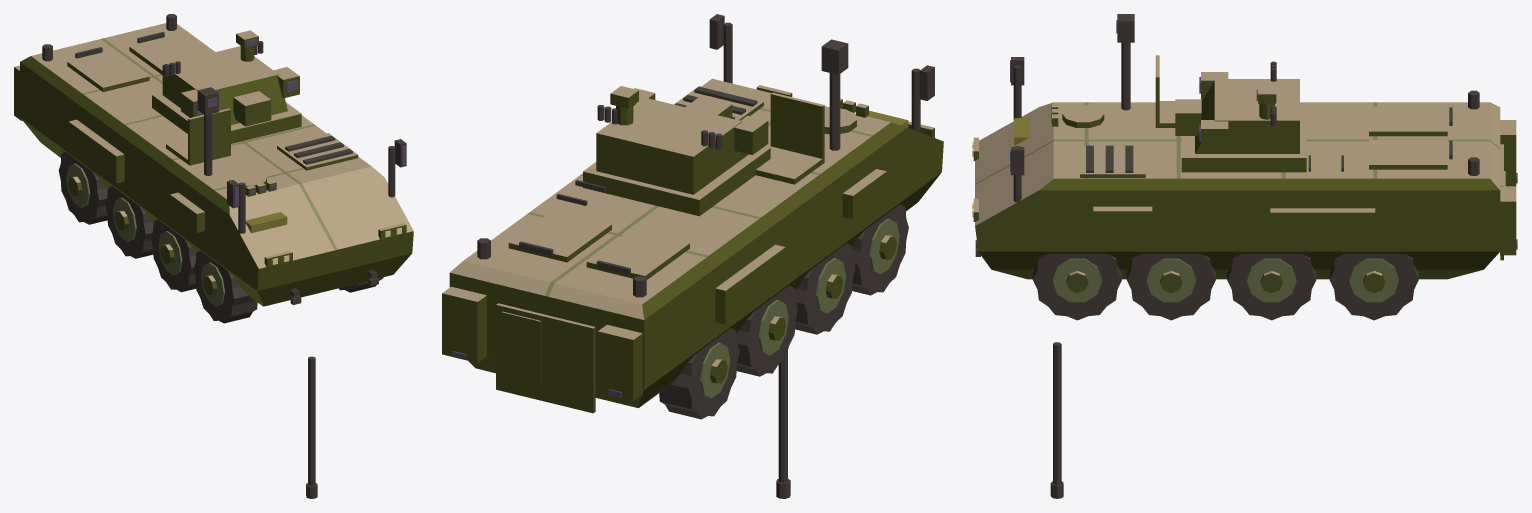
The model's file is SM_VCR_Dragon_Animable_v1_Liso_LOD0.fbx.
3 views of the same model, side by side, from view 1: azimuth 30°, elevation 25°; view 2: azimuth 150°, elevation 25°; view 3: azimuth 270°, elevation 25° (orthographic). The views are drawn at different scales.
Visible parts, largest first — view 1: SM_bloques.dragon_animable_v1_LOD0, Torre, Rueda_1R, Rueda_4R, Rueda_3R, Rueda_2R, Canon; view 2: SM_bloques.dragon_animable_v1_LOD0, Torre, Rueda_4R, Rueda_3R, Rueda_2R, Rueda_1R, Canon; view 3: SM_bloques.dragon_animable_v1_LOD0, Torre, Rueda_3L, Rueda_2L, Rueda_4L, Rueda_1L, Canon.
Part boxes in pixels (x1,y1,x2,y2): SM_bloques.dragon_animable_v1_LOD0: (14,14,413,306); Torre: (152,30,301,143); Rueda_1R: (193,250,257,323); Rueda_4R: (58,152,107,224); Rueda_3R: (105,186,153,258); Rueda_2R: (151,219,196,292); Canon: (306,356,317,498); SM_bloques.dragon_animable_v1_LOD0: (442,14,943,413); Torre: (583,86,770,216); Rueda_4R: (659,328,739,419); Rueda_3R: (736,285,797,376); Rueda_2R: (795,243,855,334); Rueda_1R: (852,204,908,295); Canon: (776,350,790,498); SM_bloques.dragon_animable_v1_LOD0: (972,14,1517,279); Torre: (1175,61,1306,172); Rueda_3L: (1227,254,1316,320); Rueda_2L: (1126,254,1215,320); Rueda_4L: (1329,254,1418,320); Rueda_1L: (1032,254,1121,320); Canon: (1050,342,1063,498).
Size of the model in its own units: 3.36 by 7.39 by 8.31.
